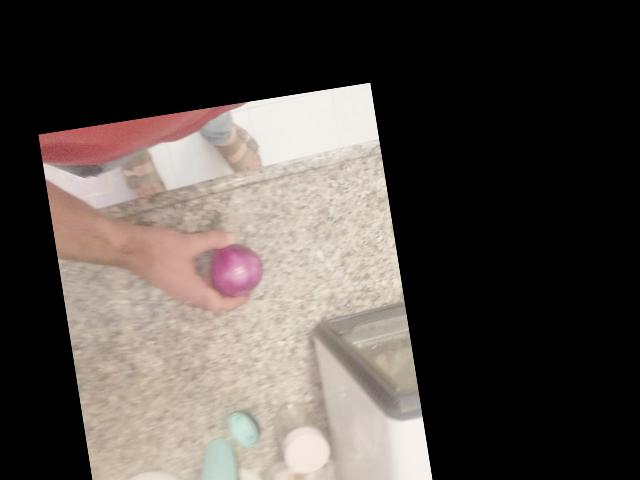onion: (330, 335, 400, 404)
